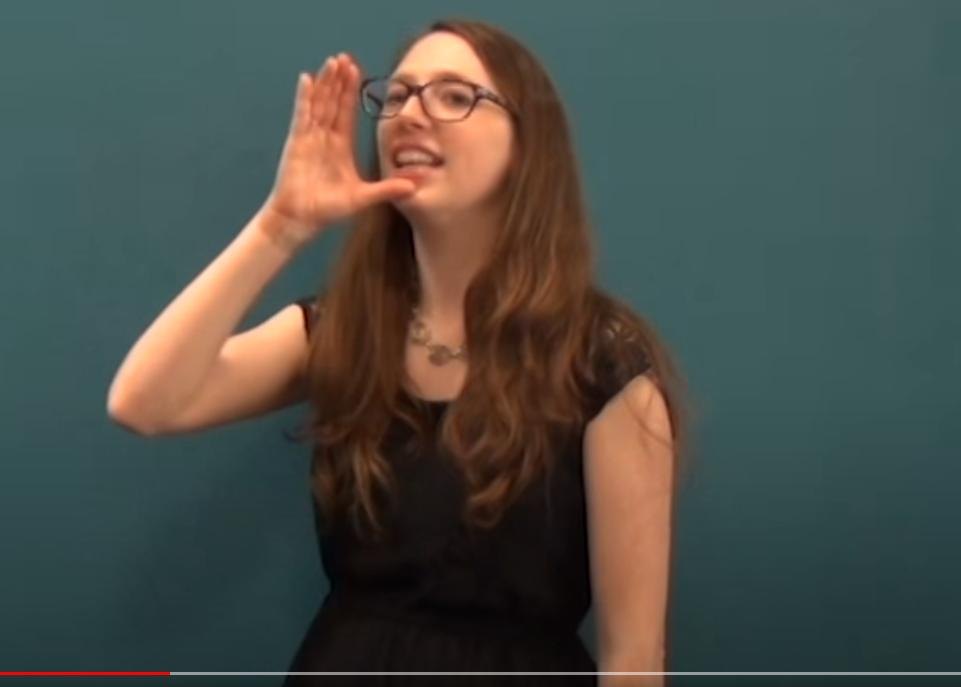drink: (271, 55, 417, 245)
